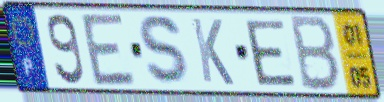9: (46, 12, 85, 86)
B: (289, 13, 342, 95)
E: (78, 11, 139, 89), (242, 18, 299, 89)
K: (189, 15, 237, 88)
S: (137, 12, 195, 89)
